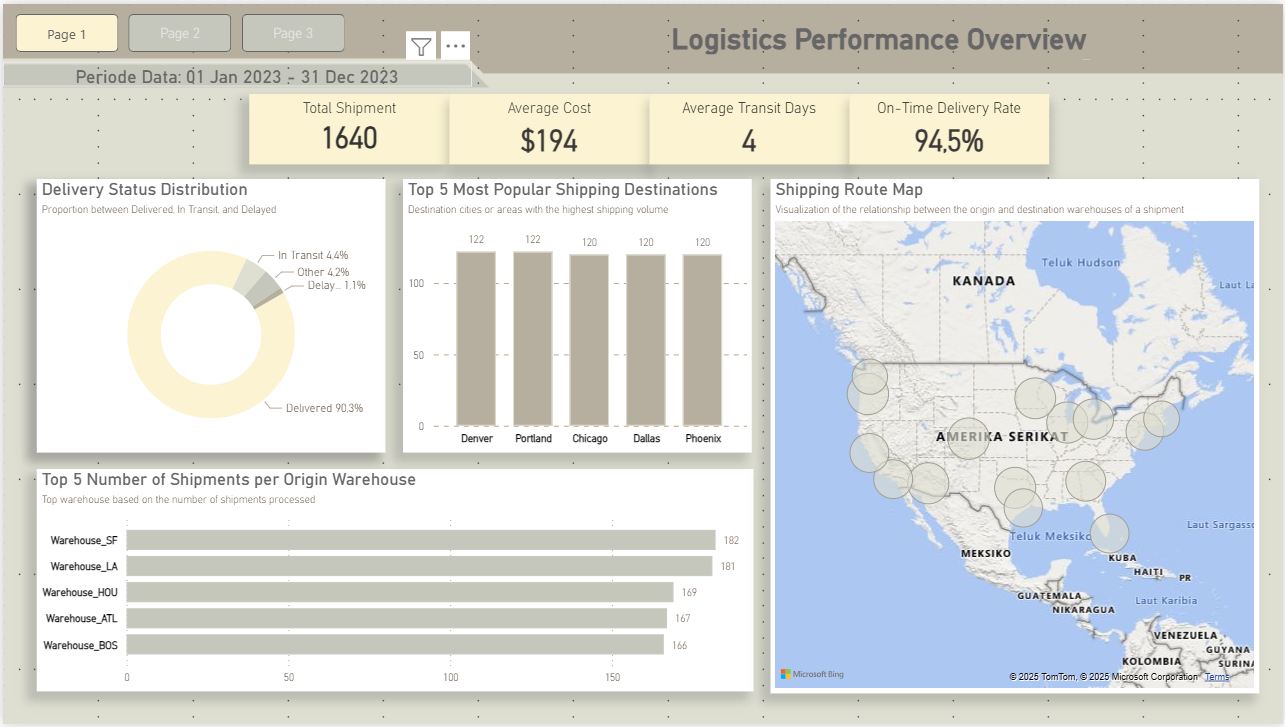

What the dashboard file says about the page in this screenshot:
{"tool":"powerbi","page":{"name":"Page 1","canvas":[1280,720],"ordinal":0},"visuals":[{"type":"card","title":"Total Shipment","fields":{"Values":["logistics_clean.Total Shipments"]},"box":[246.3,90,200,70],"z":0},{"type":"card","title":"Average Cost","fields":{"Values":["logistics_clean.Average Cost"]},"box":[446.3,90,200,70],"z":1000},{"type":"card","title":"Average Transit Days","fields":{"Values":["logistics_clean.Average Transit Days"]},"box":[646.3,90,200,70],"z":2000},{"type":"card","title":"On-Time Delivery Rate","fields":{"Values":["logistics_clean.On-Time Delivery Rate (%)"]},"box":[846.3,90,200,70],"z":3000},{"type":"donutChart","title":"Delivery Status Distribution","fields":{"Y":["logistics_clean.Total Shipments"],"Category":["logistics_clean.Status_Grouped"]},"box":[33.3,174.4,348.9,273.3],"z":4000},{"type":"barChart","title":"Top 5 Number of Shipments per Origin Warehouse","fields":{"Y":["logistics_clean.Total Shipments"],"Category":["logistics_clean.Origin_Warehouse"]},"box":[33.3,465.6,716.7,222.2],"z":5000},{"type":"columnChart","title":"Top 5 Most Popular Shipping Destinations","fields":{"Category":["logistics_clean.Destination"],"Y":["logistics_clean.Total Shipments"]},"box":[400,174.4,348.9,273.3],"z":6000},{"type":"map","title":"Shipping Route Map","fields":{"Size":["CountNonNull(logistics_clean.Shipment_ID)"],"Category":["logistics_clean.Destination"]},"box":[767.8,174.4,488.9,514.4],"z":7000},{"type":"textbox","title":"Logistics Performance Overview","box":[660.4,17.5,432,43.6],"z":8000},{"type":"card","fields":{"Values":["logistics_clean.Data Periode"]},"box":[0,57.1,468.6,25.7],"z":9000},{"type":"pageNavigator","box":[12.5,9.7,331.1,39],"z":10000}]}

Visuals, with their boxes in screenshot pixels (x1, y1, x2, y2), scaled from the page's 1280x720 canvas onto the 1285x727 screenshot:
"Total Shipment" card: 247,91,448,162
"Average Cost" card: 448,91,649,162
"Average Transit Days" card: 649,91,850,162
"On-Time Delivery Rate" card: 850,91,1050,162
"Delivery Status Distribution" donutChart: 33,176,384,452
"Top 5 Number of Shipments per Origin Warehouse" barChart: 33,470,753,694
"Top 5 Most Popular Shipping Destinations" columnChart: 402,176,752,452
"Shipping Route Map" map: 771,176,1262,695
"Logistics Performance Overview" textbox: 663,18,1097,62
card - logistics_clean.Data Periode: 0,58,470,84
pageNavigator: 13,10,345,49
